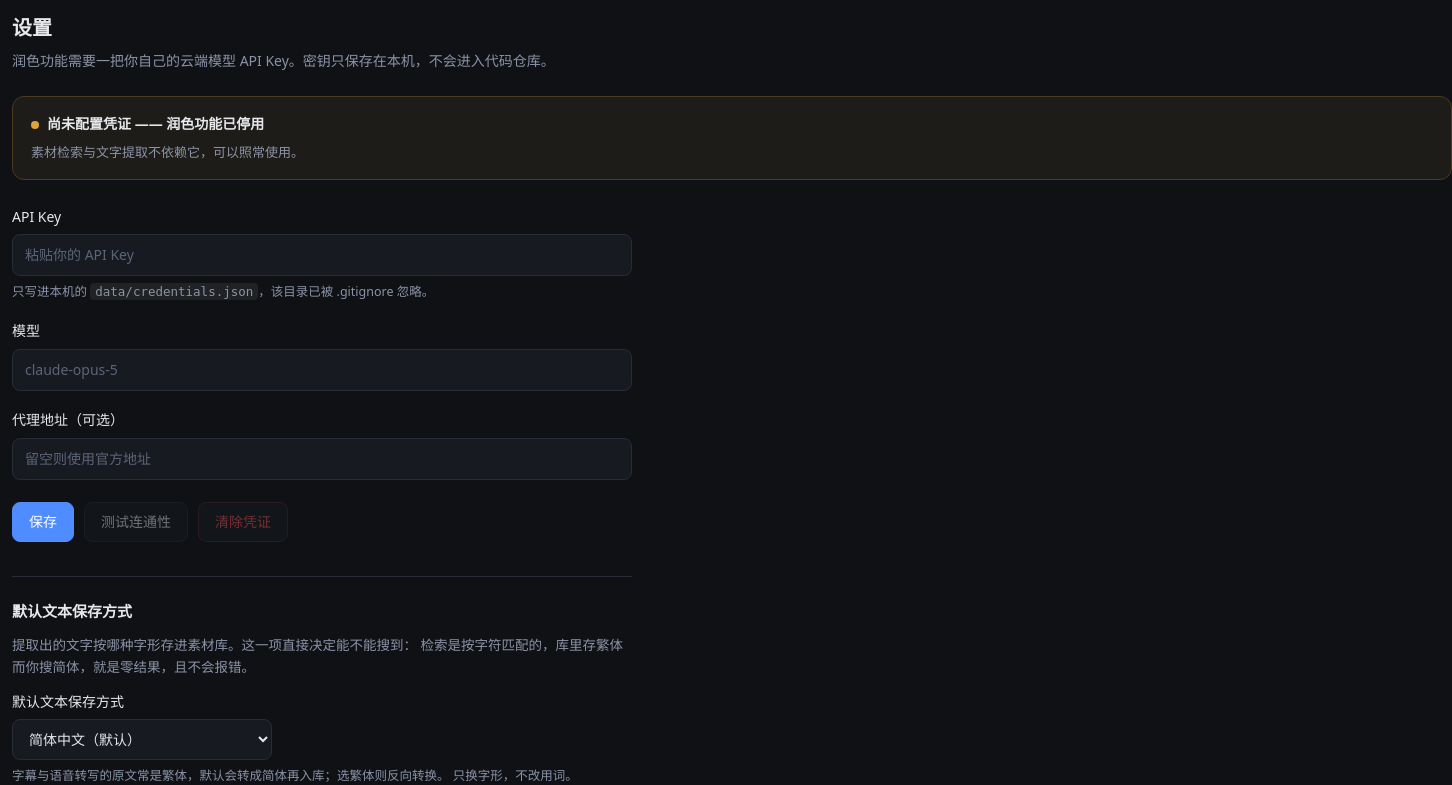
Test case: 未配置凭证时 › 直接保存空 Key 会收到后端的校验提示
Expected: the text "尚未配置凭证 —— 润色功能已停用" is shown, [31, 114, 264, 133]
Click the button "保存". click: point(43, 522)
box: [12, 502, 74, 542]
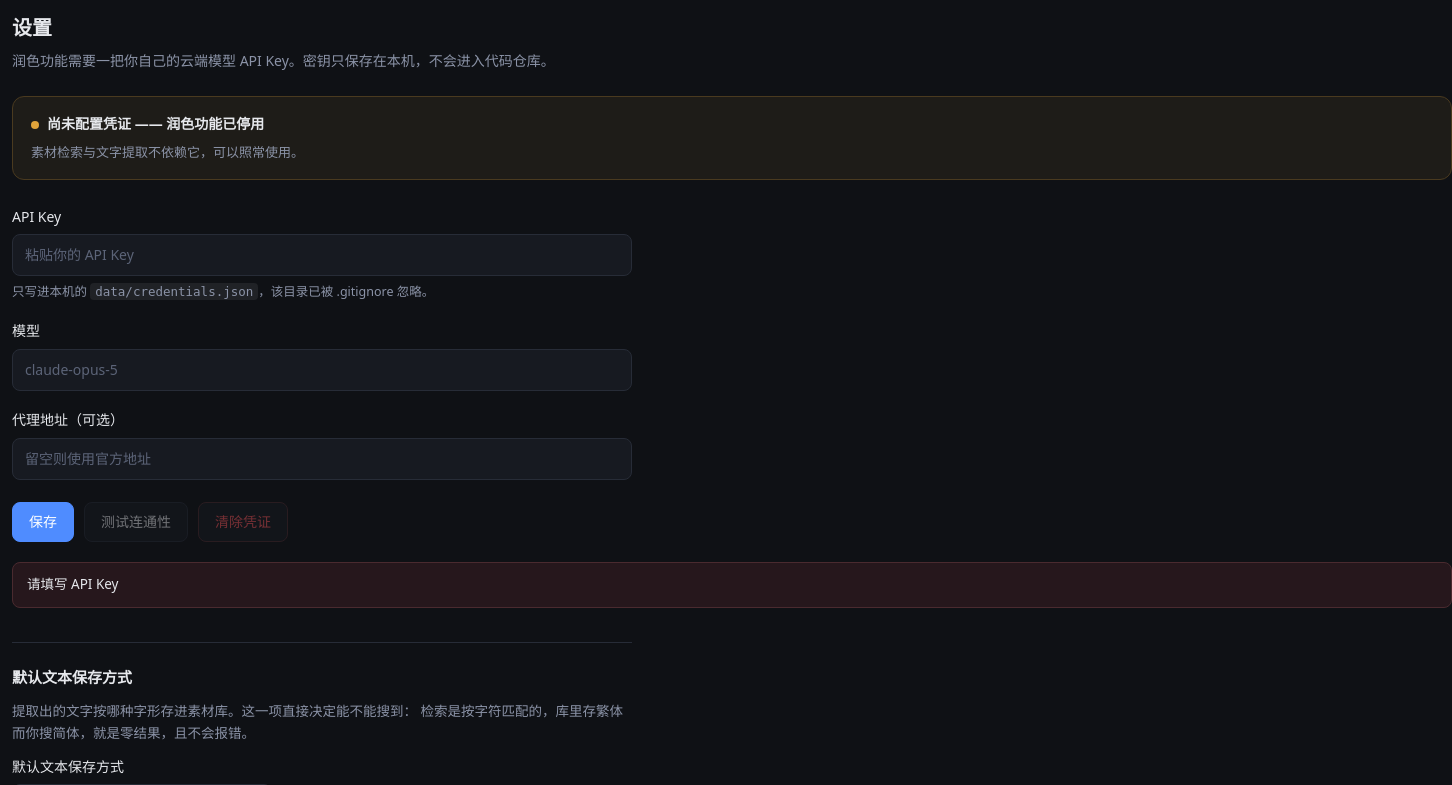
Expected: the text "请填写 API Key" is shown, [12, 562, 1451, 608]
